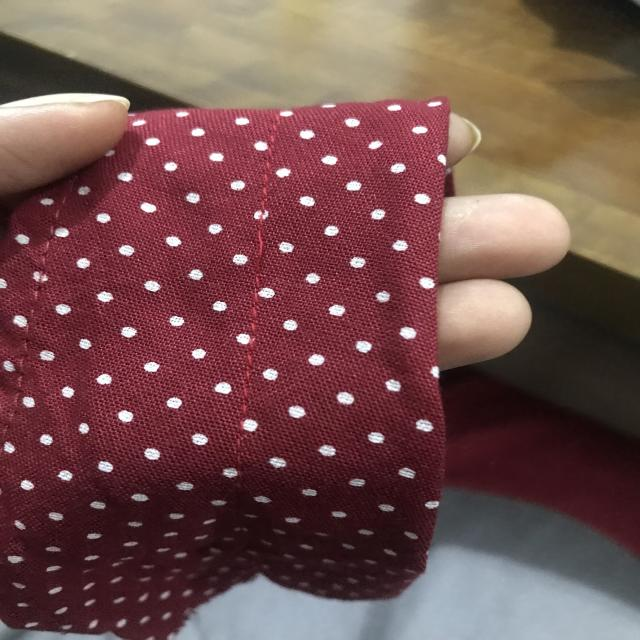skip: (248, 218, 276, 278)
